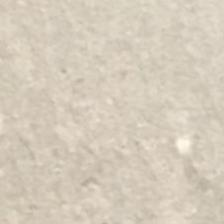Non_Crack: (1, 6, 224, 210)
